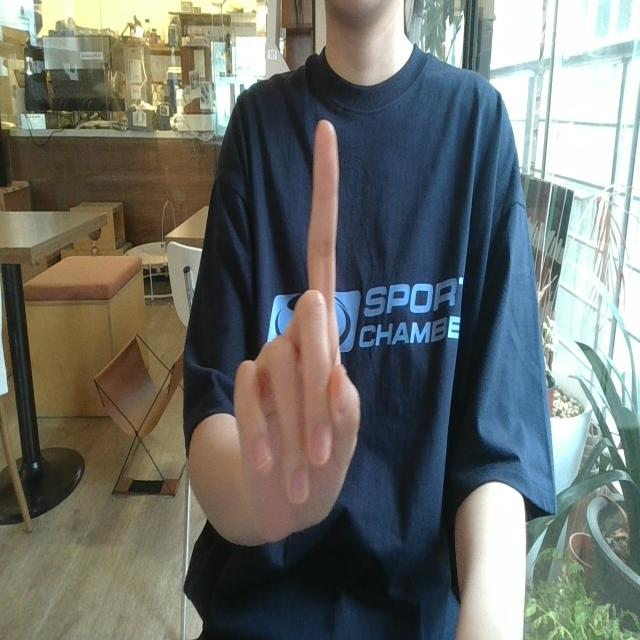hand-numbers: (214, 100, 386, 557)
